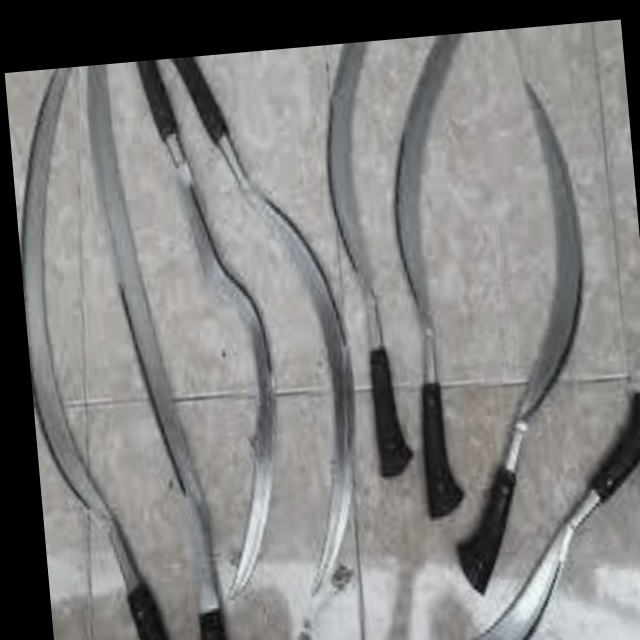Sharp-Object: (417, 55, 621, 599), (7, 64, 186, 640), (264, 404, 640, 640), (218, 57, 375, 615), (129, 56, 293, 582), (373, 32, 524, 531), (313, 41, 411, 514)
